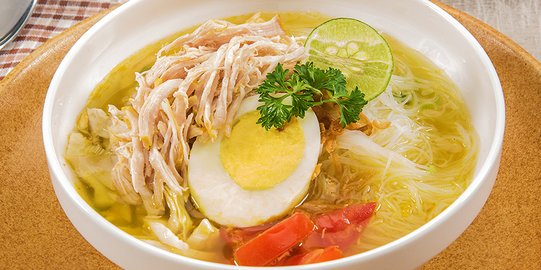soto: (40, 2, 491, 270)
